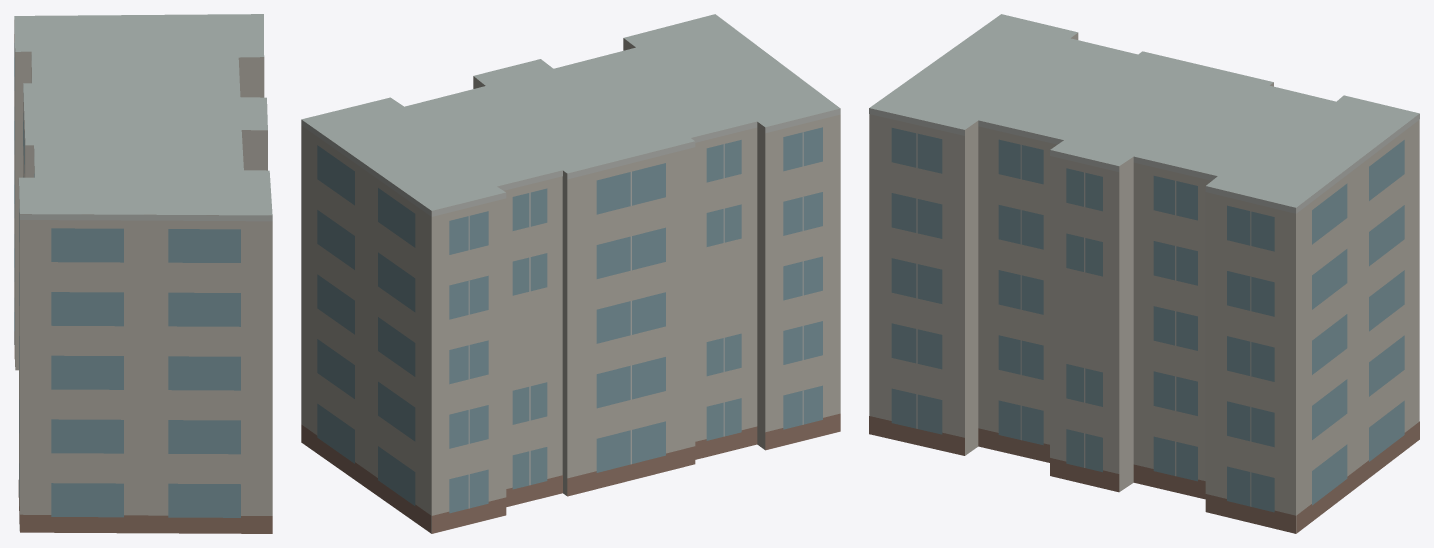
The model's file is survey-upis-32941935.glb.
3 renders of one model, left to right at view 1: azimuth 30°, elevation 25°; view 2: azimuth 150°, elevation 25°; view 3: azimuth 270°, elevation 25°, orthographic. The views are drawn at different scales.
Parts seen in each view (by area): view 1: survey-upis-32941935.tmp; view 2: survey-upis-32941935.tmp; view 3: survey-upis-32941935.tmp.
Part boxes in pixels (x1,y1,x2,y2): survey-upis-32941935.tmp: (14, 14, 272, 533); survey-upis-32941935.tmp: (301, 14, 840, 533); survey-upis-32941935.tmp: (869, 14, 1419, 533).
Bounding box in the file's own units: 16.84 × 13.2 × 20.21.
